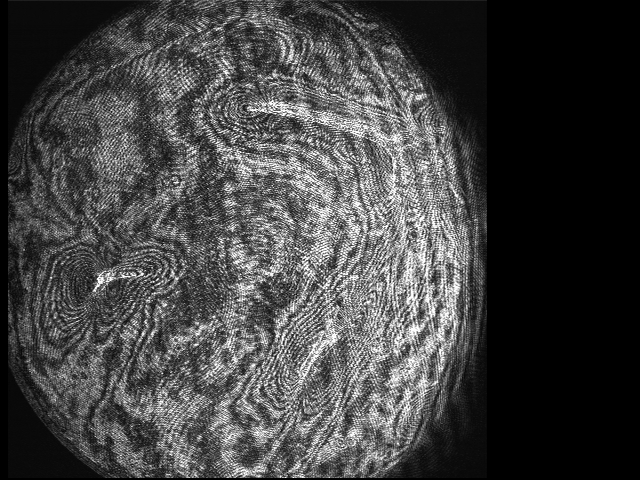plume: (43, 246, 186, 335)
